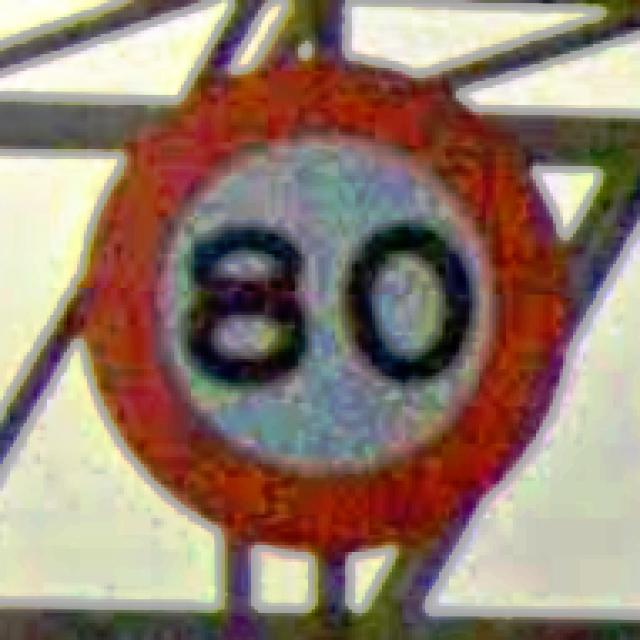max80: (70, 51, 576, 559)
